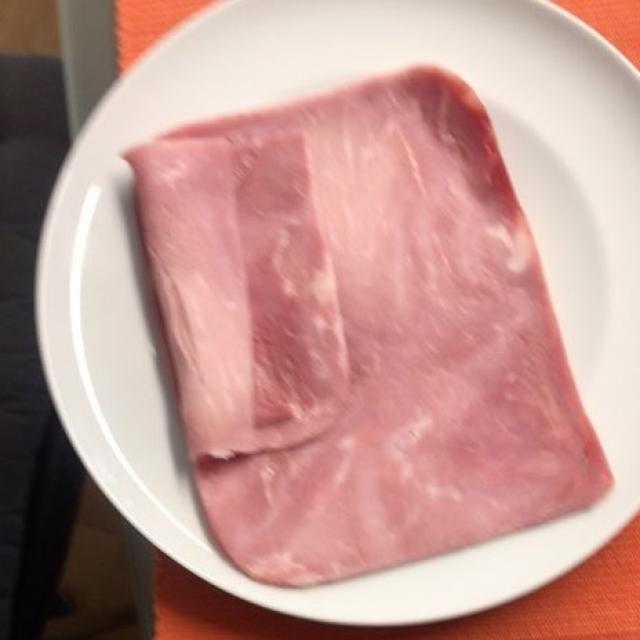ham: (128, 68, 598, 580)
